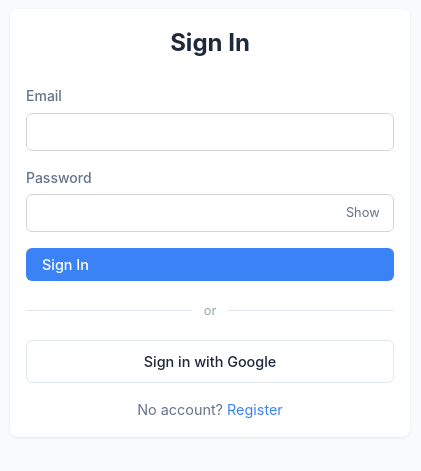
Test case: LoginView › shows error message on failed login
This screenshot has width=421, height=471.
In the field with id "email": (210, 132) [26, 113, 394, 151], type "bad@b.com"
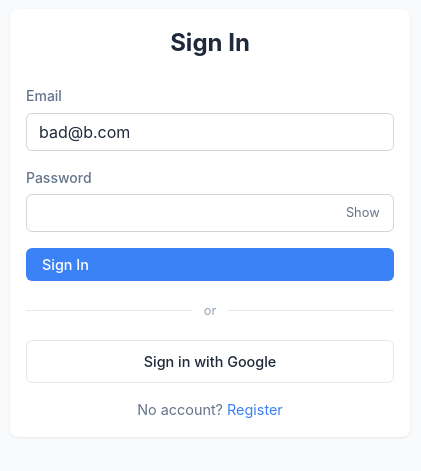
In the password field labelled "Password": (210, 213) [26, 194, 394, 232], type "wrong"
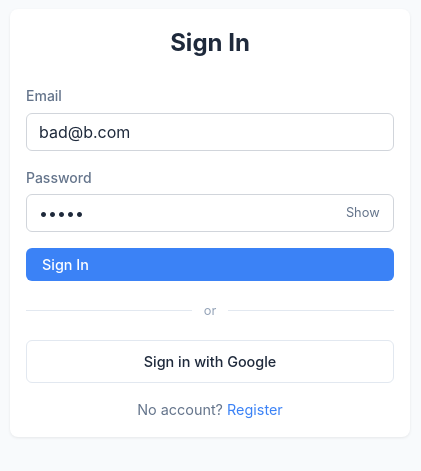
Submit the form, box [26, 85, 394, 281]
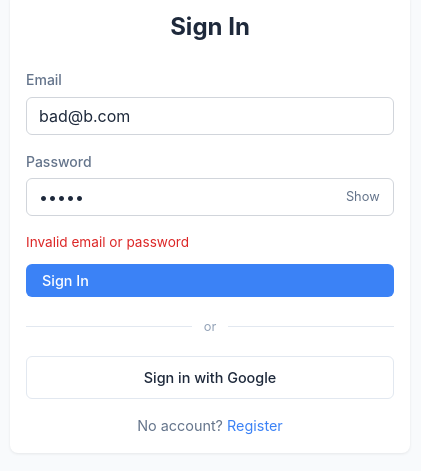
Expected: the text "Invalid email or password" is shown, [26, 234, 189, 250]
